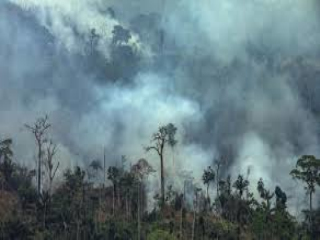smoke: (52, 73, 215, 199), (227, 104, 316, 213)
